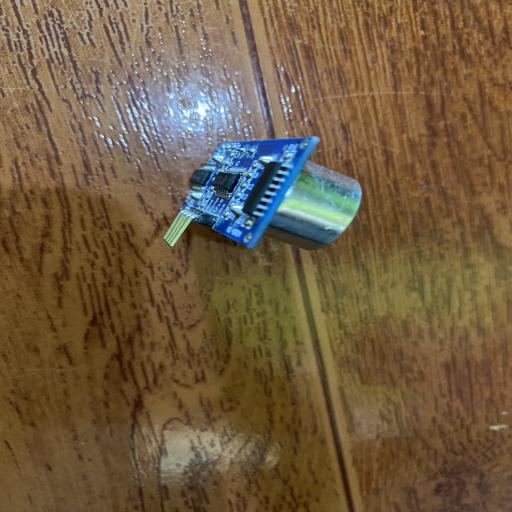Ultrasonic Sensor: (160, 135, 365, 249)
